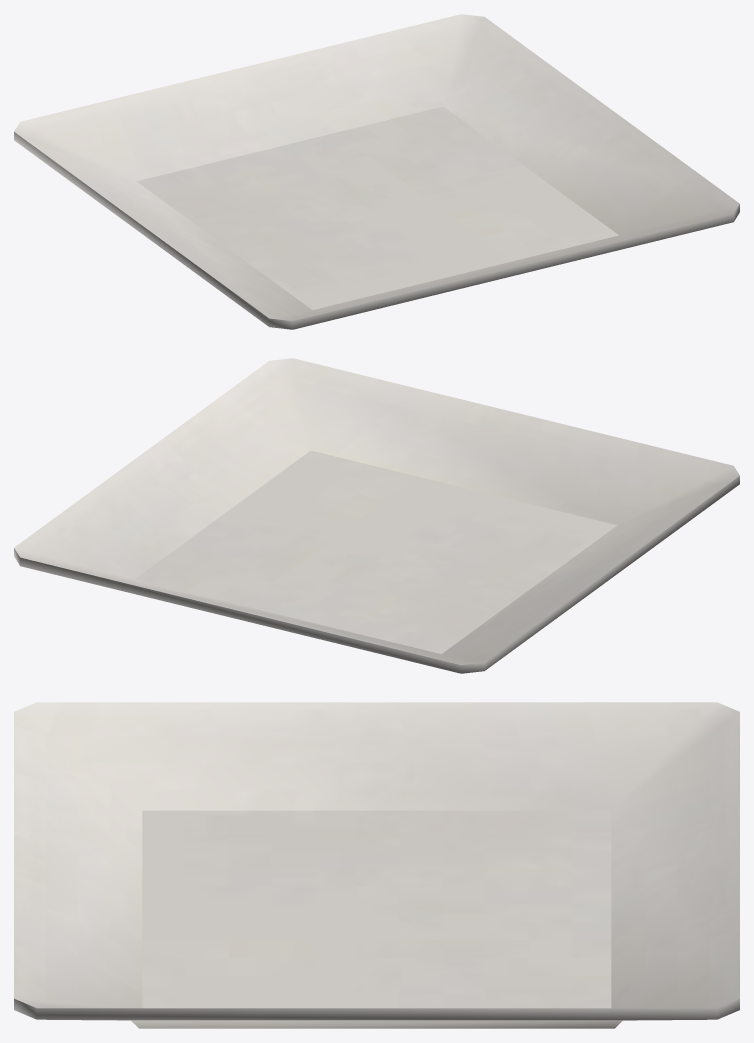
The model's file is T_Kitchen_Plate_03.glb.
3 renders of one model, top to bottom at view 1: azimuth 30°, elevation 25°; view 2: azimuth 150°, elevation 25°; view 3: azimuth 270°, elevation 25°, orthographic. The views are drawn at different scales.
Visible parts, largest first — view 1: T_Kitchen_Plate_03; view 2: T_Kitchen_Plate_03; view 3: T_Kitchen_Plate_03.
Part boxes in pixels (left/top/right/bottom): T_Kitchen_Plate_03: left=14, top=14, right=739, bottom=329; T_Kitchen_Plate_03: left=14, top=358, right=739, bottom=673; T_Kitchen_Plate_03: left=14, top=702, right=739, bottom=1028.
Size of the model in its own units: 0.2602 by 0.0285 by 0.2609.
1 material, 1 textured.
